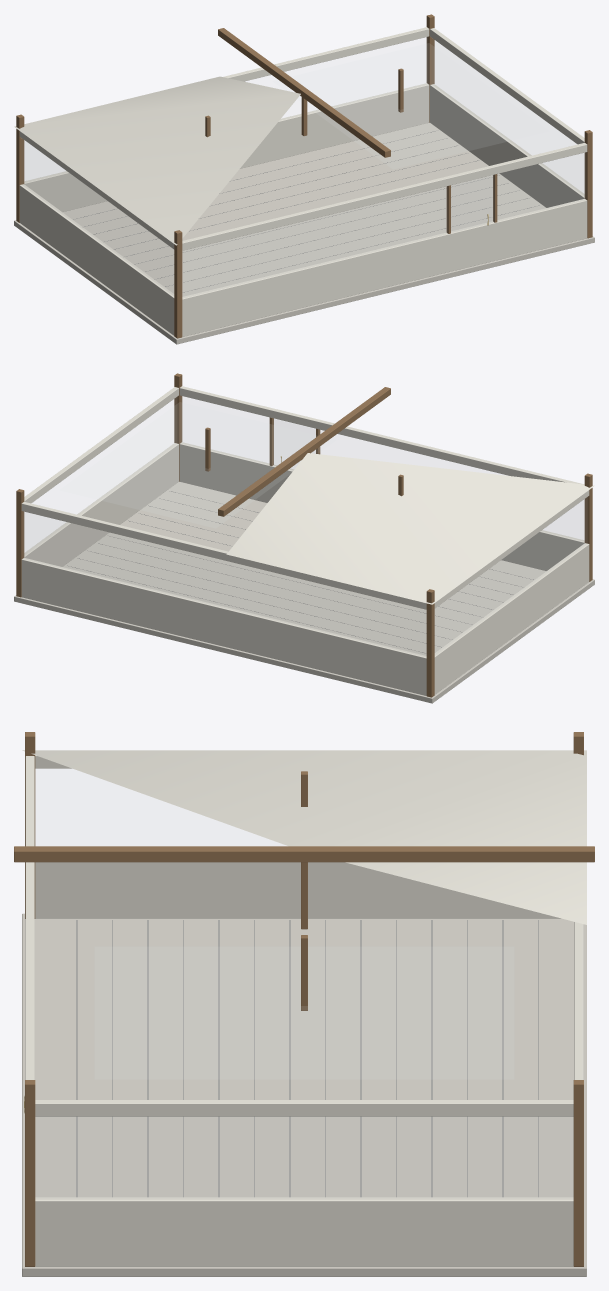
The model's file is marquetry-and-veneer-inlay-workshop-roofed-inlay-ateli-4abd7ba1__39083.glb.
3 renders of one model, top to bottom at view 1: azimuth 30°, elevation 25°; view 2: azimuth 150°, elevation 25°; view 3: azimuth 270°, elevation 25°, orthographic. The views are drawn at different scales.
Parts seen in each view (by area): view 1: roofed-inlay-atelier; view 2: roofed-inlay-atelier; view 3: roofed-inlay-atelier.
Boxes of the visible parts, bbox=[...] form: roofed-inlay-atelier: bbox=[14, 14, 594, 344]; roofed-inlay-atelier: bbox=[14, 373, 594, 703]; roofed-inlay-atelier: bbox=[14, 732, 594, 1276].
Size of the model in its own units: 10.4 by 3.43 by 7.2.
